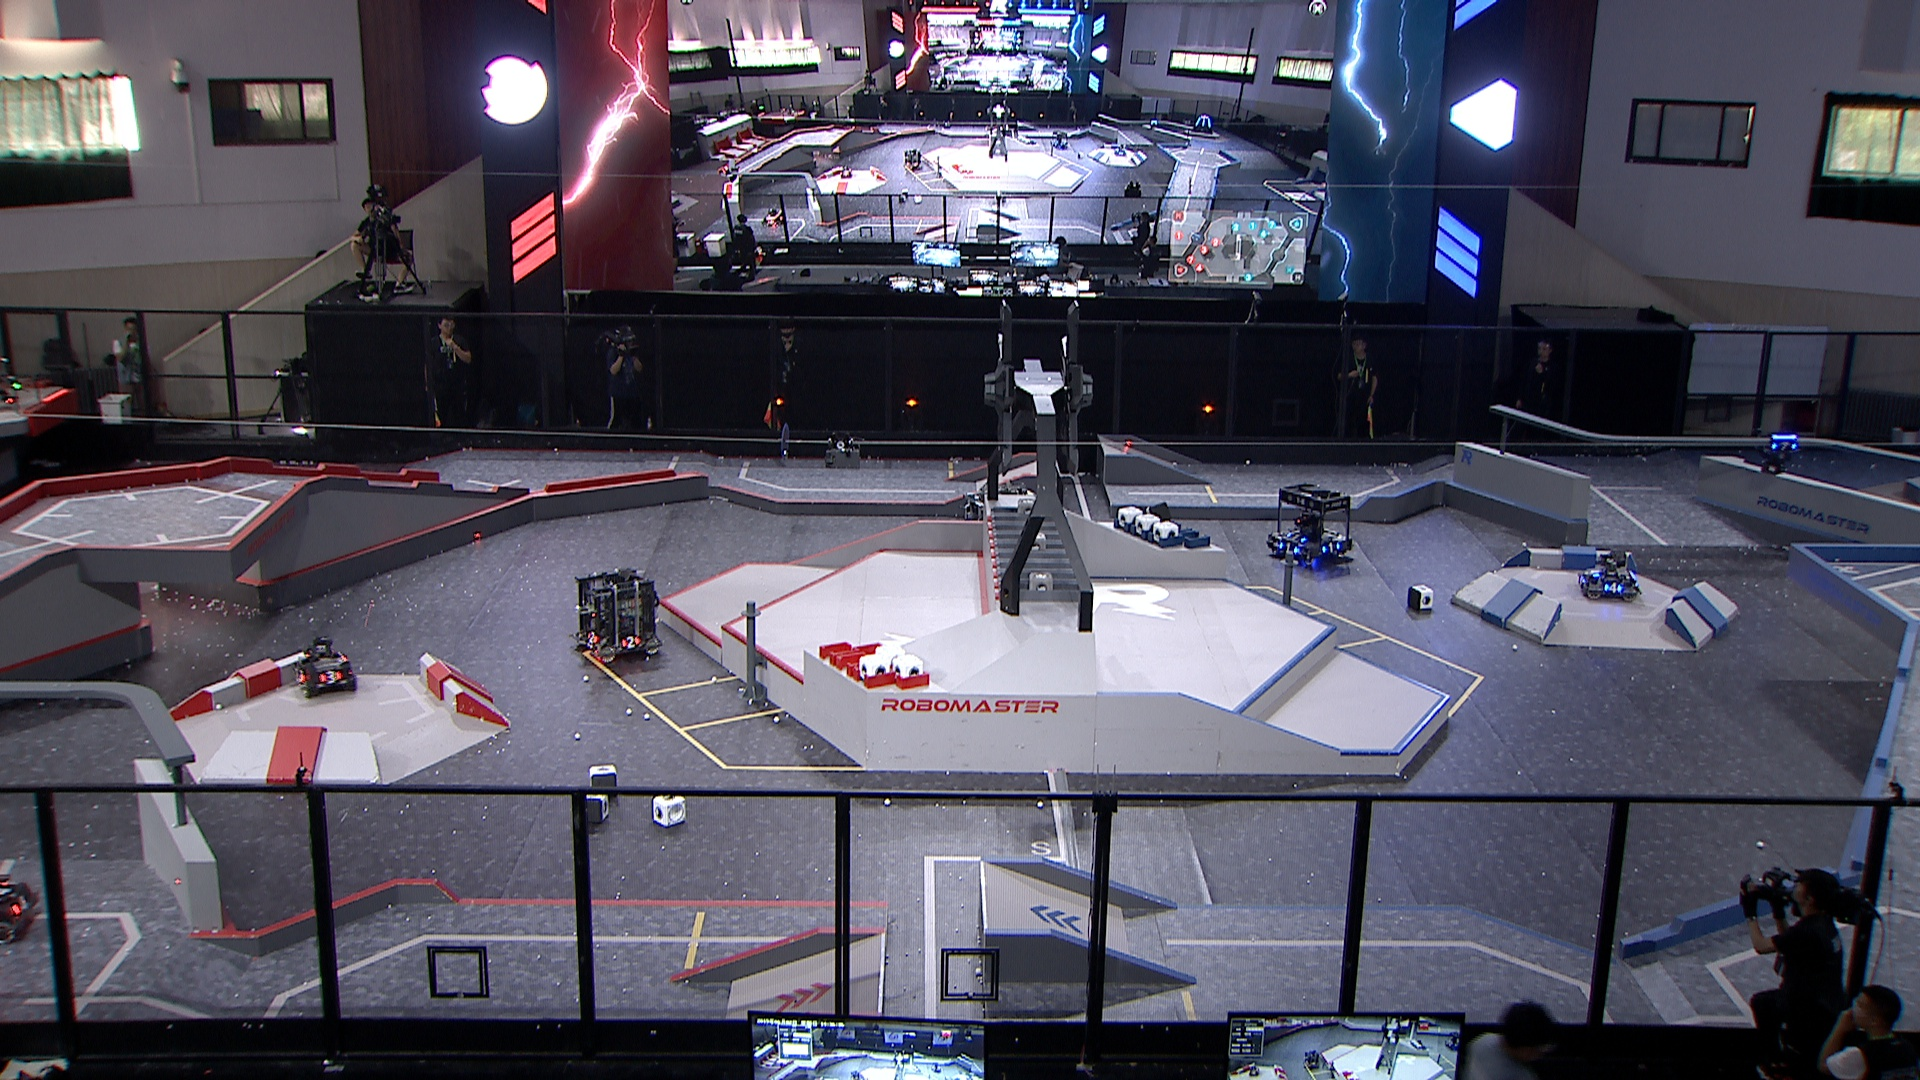armor: (13, 893, 32, 916), (1276, 541, 1300, 555), (621, 633, 642, 647), (1770, 439, 1795, 451), (320, 669, 340, 683), (291, 669, 309, 684), (1605, 582, 1622, 593), (1578, 570, 1589, 588), (1321, 542, 1338, 553), (1586, 566, 1600, 579), (585, 632, 599, 645), (1288, 531, 1305, 541)
car: (568, 567, 661, 665), (1265, 480, 1354, 568), (955, 479, 1043, 551), (289, 632, 356, 698), (1575, 551, 1640, 605)
ignore: (899, 145, 927, 169), (1191, 115, 1216, 138), (761, 204, 787, 225), (1299, 1046, 1323, 1068), (719, 166, 744, 185), (1050, 131, 1072, 150), (1443, 1031, 1462, 1054), (835, 161, 855, 178), (1110, 142, 1127, 157), (1147, 115, 1160, 129), (1247, 1064, 1262, 1077)
watcher: (1754, 425, 1801, 479)
